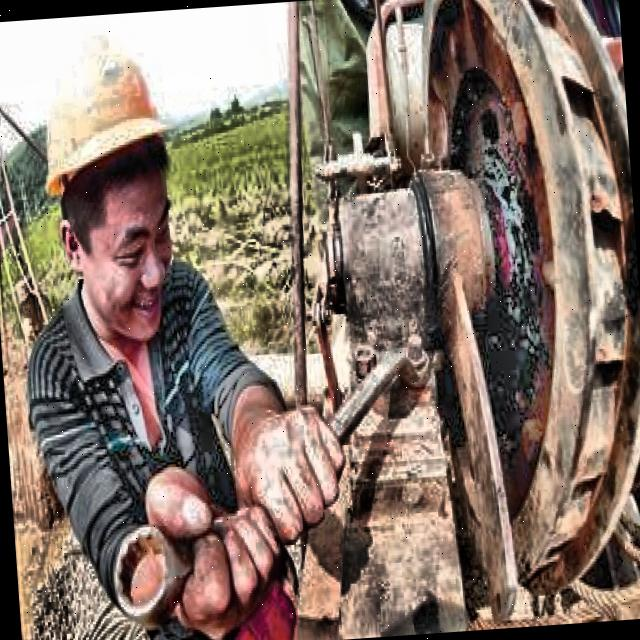helmet: (27, 17, 209, 350)
